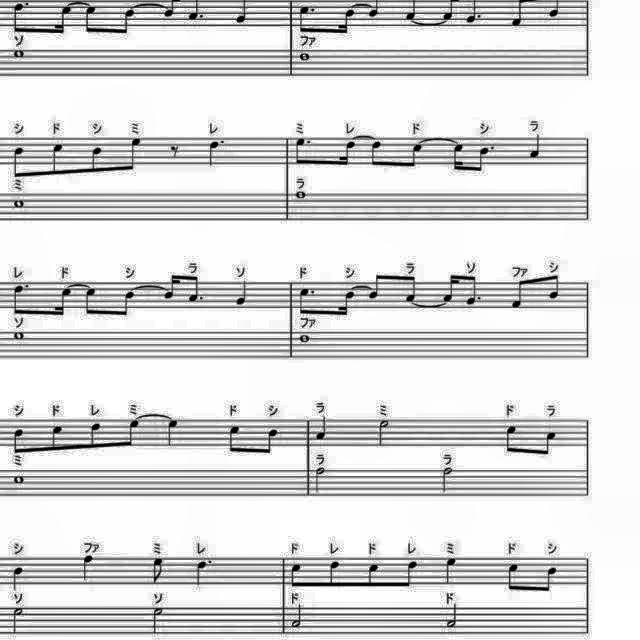Eighth-note: (121, 135, 147, 177), (470, 143, 496, 179), (114, 1, 138, 38), (7, 1, 31, 36), (8, 280, 30, 318), (260, 425, 284, 459), (294, 1, 318, 35), (116, 288, 140, 322), (294, 283, 318, 317), (290, 134, 314, 168), (225, 422, 247, 458), (404, 140, 428, 173), (463, 272, 485, 308), (8, 144, 28, 183), (538, 428, 562, 460), (48, 141, 68, 179), (185, 272, 207, 306), (540, 563, 562, 597), (122, 416, 144, 450), (80, 1, 100, 37), (80, 282, 100, 318), (500, 422, 520, 458), (510, 276, 530, 312), (504, 560, 524, 596), (88, 143, 108, 177), (366, 138, 386, 172), (402, 557, 422, 591), (323, 558, 343, 590), (8, 426, 28, 458), (86, 421, 106, 453), (46, 422, 66, 454), (362, 558, 382, 590), (147, 554, 167, 586), (364, 270, 384, 302), (542, 273, 562, 303), (286, 560, 306, 590), (403, 273, 421, 303)
Eighth-rest: (164, 142, 182, 162)
Full-note: (8, 196, 28, 212), (10, 472, 26, 488), (9, 46, 27, 60), (9, 331, 27, 344), (292, 188, 310, 200)
Half-note: (8, 606, 28, 638), (438, 463, 458, 495), (312, 464, 331, 496), (288, 602, 308, 632), (148, 606, 166, 638), (375, 416, 393, 448), (445, 604, 463, 632)
Quarter-dot: (190, 556, 214, 588)
Quarter-note: (204, 138, 228, 170), (163, 416, 183, 448), (234, 277, 254, 307), (80, 553, 100, 583), (443, 554, 461, 586), (313, 413, 332, 443), (526, 132, 546, 160), (8, 565, 26, 593)
Sixteenth-note: (50, 282, 76, 320), (50, 0, 76, 38), (336, 284, 360, 320), (336, 2, 360, 38), (448, 139, 468, 177), (336, 138, 359, 170), (162, 270, 182, 302), (442, 272, 461, 302)
